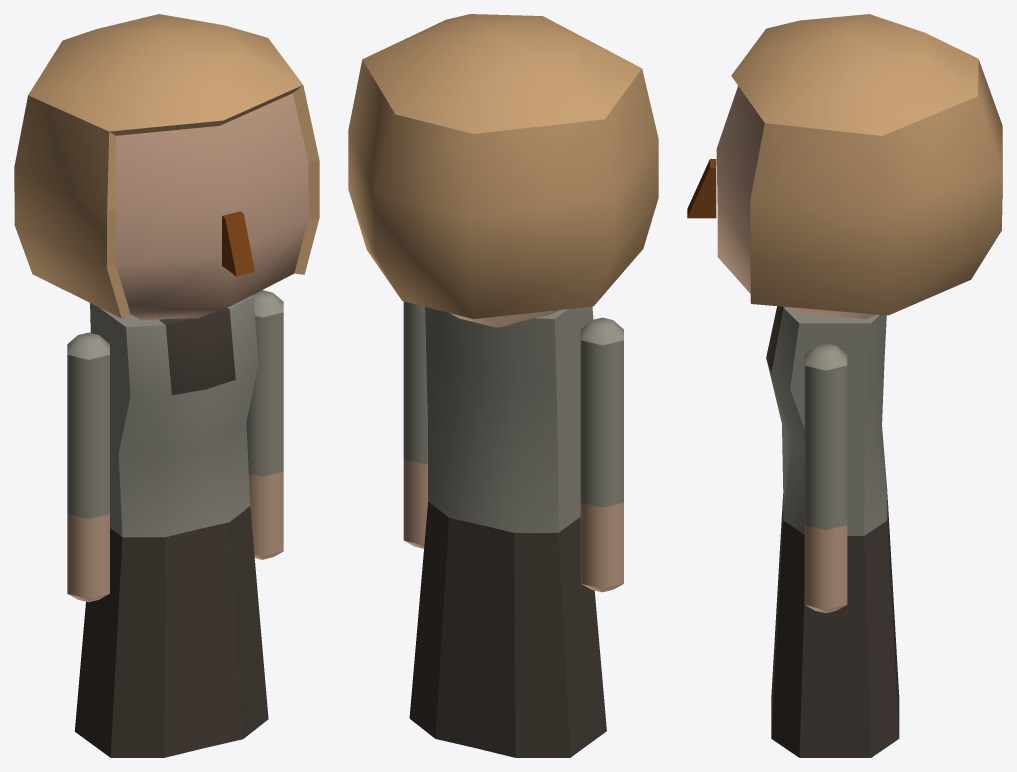
The model's file is Villager_7.FBX.
The picture shows the model from 3 angles, left to right: view 1: azimuth 30°, elevation 25°; view 2: azimuth 150°, elevation 25°; view 3: azimuth 270°, elevation 25°; orthographic projection.
Visible parts, largest first — view 1: Box044; view 2: Box044; view 3: Box044.
Part boxes in pixels (x1,y1,x2,y2): Box044: (14,14,319,757); Box044: (348,14,658,757); Box044: (687,14,1002,757).
Bounding box in the file's own units: 31.89 × 79.85 × 33.35.
